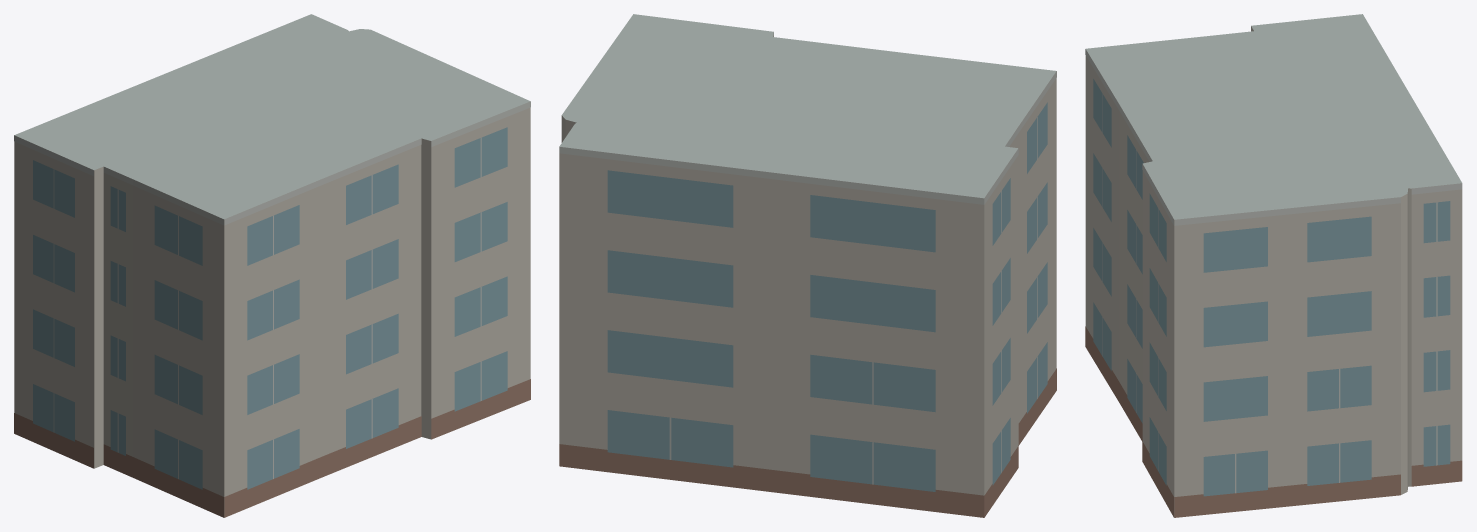
File: survey-upis-33047139.glb
3 views of the same model, side by side, from view 1: azimuth 30°, elevation 25°; view 2: azimuth 150°, elevation 25°; view 3: azimuth 270°, elevation 25° (orthographic). The views are drawn at different scales.
Visible parts, largest first — view 1: survey-upis-33047139.tmp; view 2: survey-upis-33047139.tmp; view 3: survey-upis-33047139.tmp.
Boxes of the visible parts, x1,y1,x2,y2 form: survey-upis-33047139.tmp: (14,14,530,517); survey-upis-33047139.tmp: (559,14,1056,517); survey-upis-33047139.tmp: (1085,14,1462,517).
Bounding box in the file's own units: 17.47 × 11.8 × 13.53.
